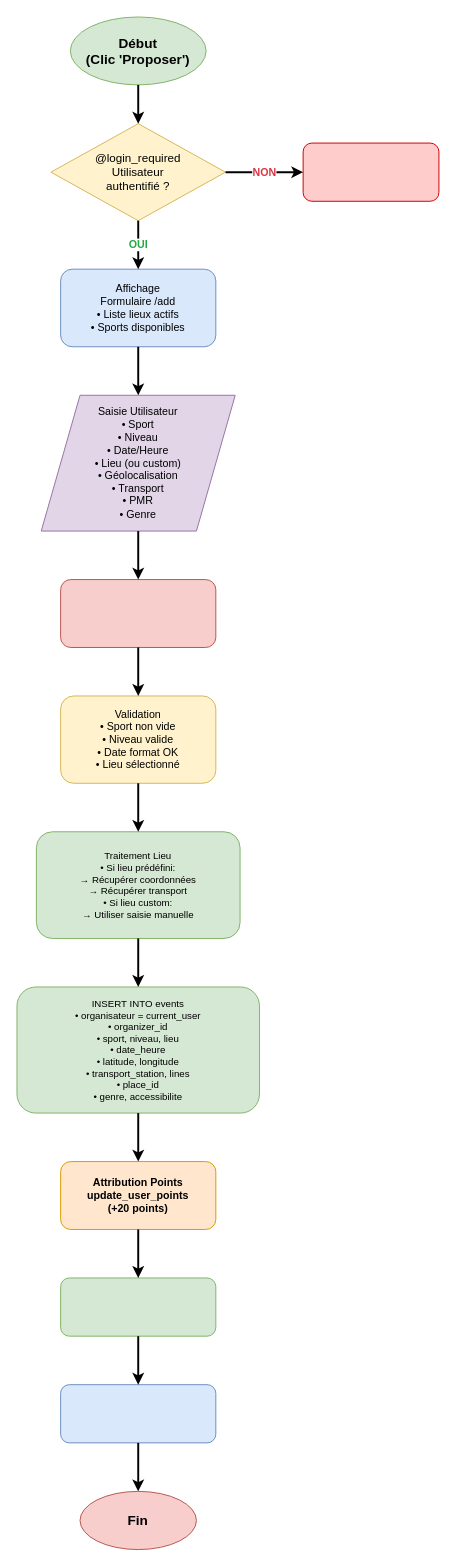
Some shapes in this 456 by 1567 pixel diagram are drawn without their labels. Each missing label, with the centre of its shape:
Flash Success 'Événement créé ! +20 pts': pixel 138 1306
Redirection /login: pixel 370 171
Redirection Dashboard (/): pixel 138 1413
Soumission Formulaire (POST /add): pixel 138 613
